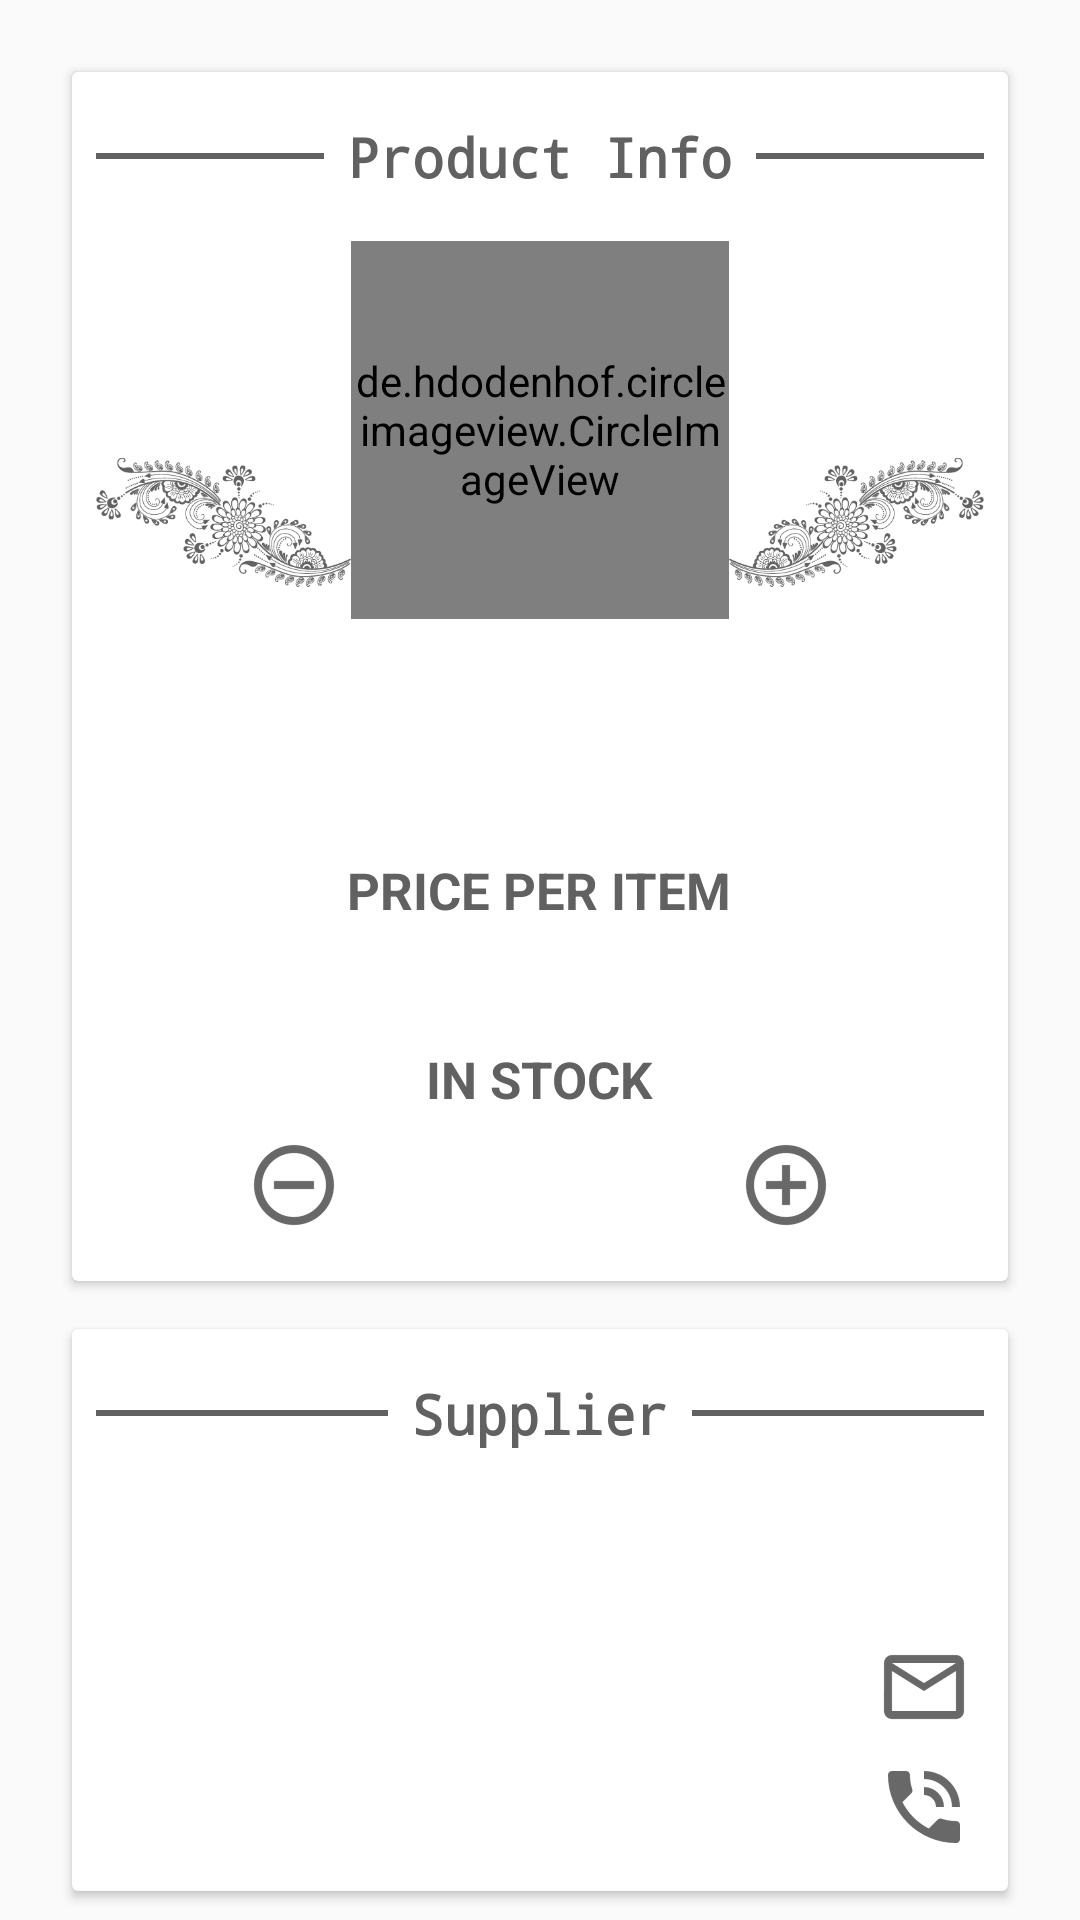

Named icons in this screenshot (1080*1920) and their centers, point (x, y):
decrement stock: point (294, 1185)
